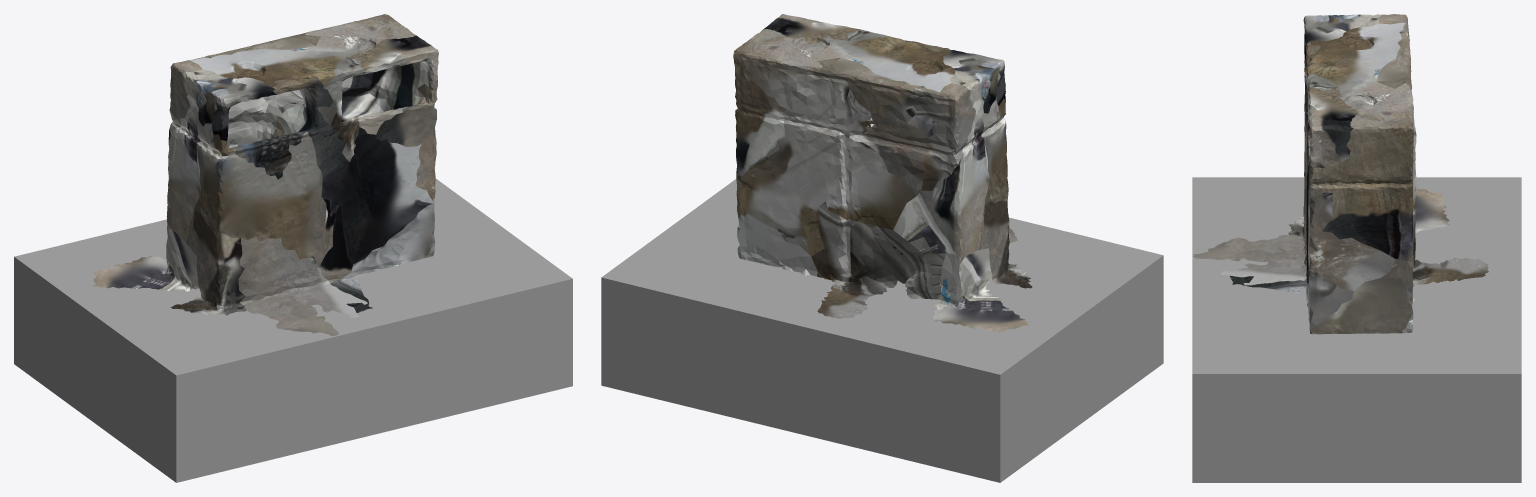
Rendered from Bin.fbx.
3 views of the same model, side by side, from view 1: azimuth 30°, elevation 25°; view 2: azimuth 150°, elevation 25°; view 3: azimuth 270°, elevation 25° (orthographic).
Parts seen in each view (by area): view 1: pCube2; view 2: pCube2; view 3: pCube2.
Boxes of the visible parts, x1,y1,x2,y2 form: pCube2: [14, 14, 572, 482]; pCube2: [601, 14, 1163, 482]; pCube2: [1192, 14, 1521, 482].
Bounding box in the file's own units: 1.89 × 1.45 × 1.34.
